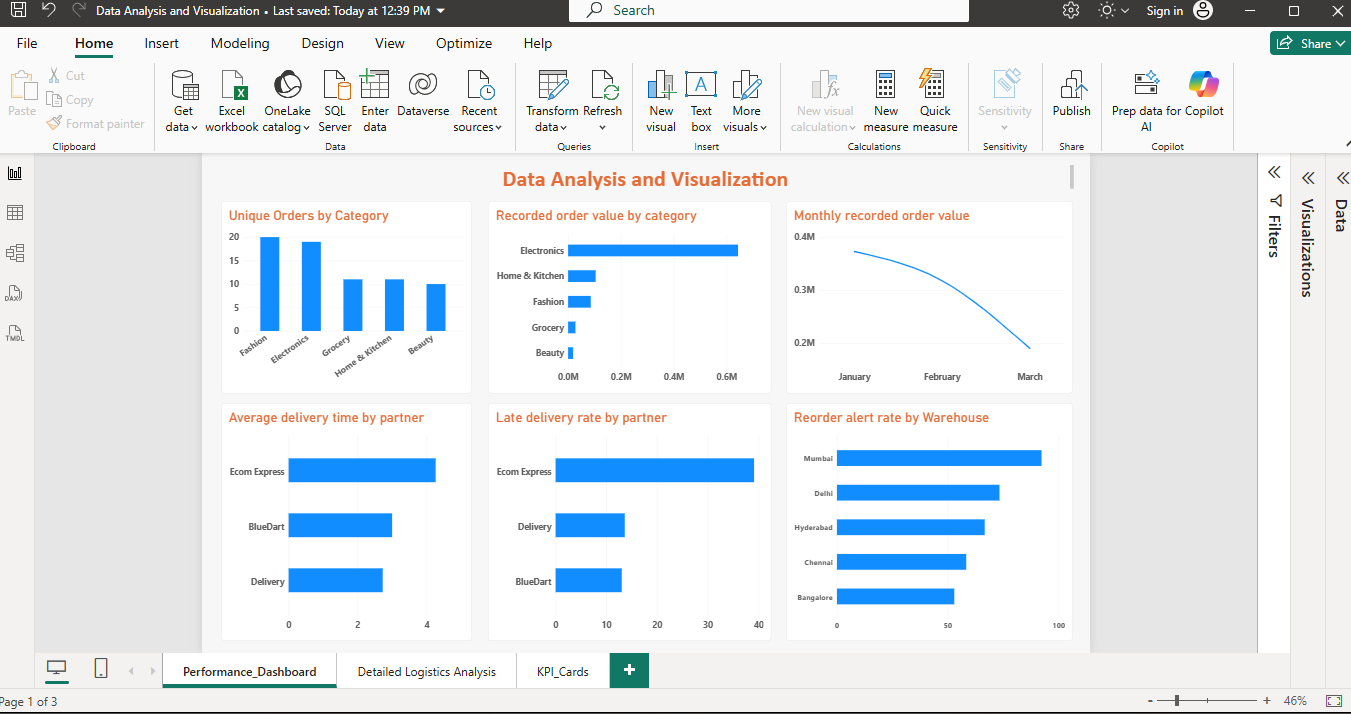

This screenshot's page, from the dashboard's own definition file:
{"tool":"powerbi","page":{"name":"Performance_Dashboard","canvas":[1920,1080],"ordinal":0},"visuals":[{"type":"clusteredColumnChart","title":"Unique Orders by Category","fields":{"Category":["ecommerce_logistics_week2.Product_Category"],"Y":["CountNonNull(ecommerce_logistics_week2.Order_ID)"]},"box":[40.3,103.3,541.7,415.7],"z":0},{"type":"clusteredBarChart","title":"Recorded order value by category","fields":{"Category":["ecommerce_logistics_week2.Product_Category"],"Y":["Sum(ecommerce_logistics_week2.Order_Value)"]},"box":[617.3,103.3,612.3,415.7],"z":1000},{"type":"lineChart","title":"Monthly recorded order value","fields":{"Category":["ecommerce_logistics_week2.Order_Date.Variation.Date Hierarchy.Month"],"Y":["Sum(ecommerce_logistics_week2.Order_Value)"]},"box":[1262.4,103.3,619.8,415.7],"z":2000},{"type":"clusteredBarChart","title":"Average delivery time by partner","fields":{"Category":["ecommerce_logistics_week2.Delivery_Partner"],"Y":["Week 3.Average Valid Delivery Days"]},"box":[40.3,539.2,541.7,514],"z":3000},{"type":"clusteredBarChart","title":"Late delivery rate by partner","fields":{"Category":["ecommerce_logistics_week2.Delivery_Partner"],"Y":["Week 3.Late Delivery Rate (%)"]},"box":[617.3,539.2,612.3,514],"z":4000},{"type":"clusteredBarChart","title":"Reorder alert rate by Warehouse ","fields":{"Category":["ecommerce_logistics_week2.Warehouse"],"Y":["Week 3.Reorder Alert Rate (%)"]},"box":[1262.4,539.2,619.8,514],"z":5000},{"type":"textbox","box":[40.3,25.2,1841.9,55.4],"z":5001}]}

Visuals, with their boxes on the page's 1920x1080 design canvas (x1, y1, x2, y2). These are canvas units, not pixel positions in the 1351x714 screenshot, which may show the page scaled, cropped or inside an application window:
"Unique Orders by Category" clusteredColumnChart: {"x1": 40, "y1": 103, "x2": 582, "y2": 519}
"Recorded order value by category" clusteredBarChart: {"x1": 617, "y1": 103, "x2": 1230, "y2": 519}
"Monthly recorded order value" lineChart: {"x1": 1262, "y1": 103, "x2": 1882, "y2": 519}
"Average delivery time by partner" clusteredBarChart: {"x1": 40, "y1": 539, "x2": 582, "y2": 1053}
"Late delivery rate by partner" clusteredBarChart: {"x1": 617, "y1": 539, "x2": 1230, "y2": 1053}
"Reorder alert rate by Warehouse " clusteredBarChart: {"x1": 1262, "y1": 539, "x2": 1882, "y2": 1053}
textbox: {"x1": 40, "y1": 25, "x2": 1882, "y2": 81}
